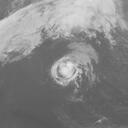cyclone: (51, 57, 83, 87)
